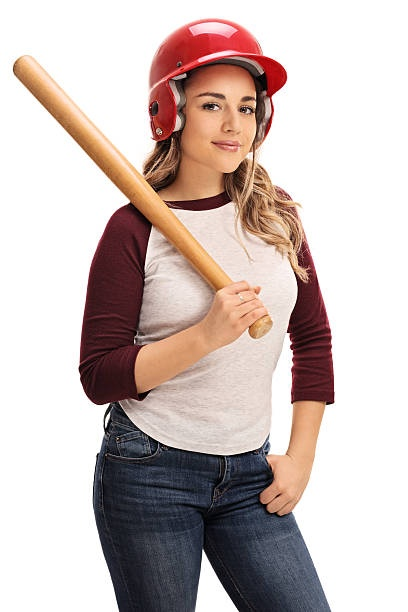bita: (12, 43, 220, 279)
